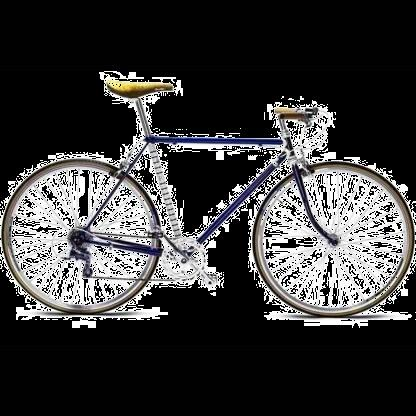Bicycle: (0, 54, 416, 334)
